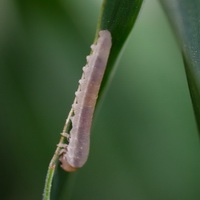insect: (59, 30, 111, 170)
